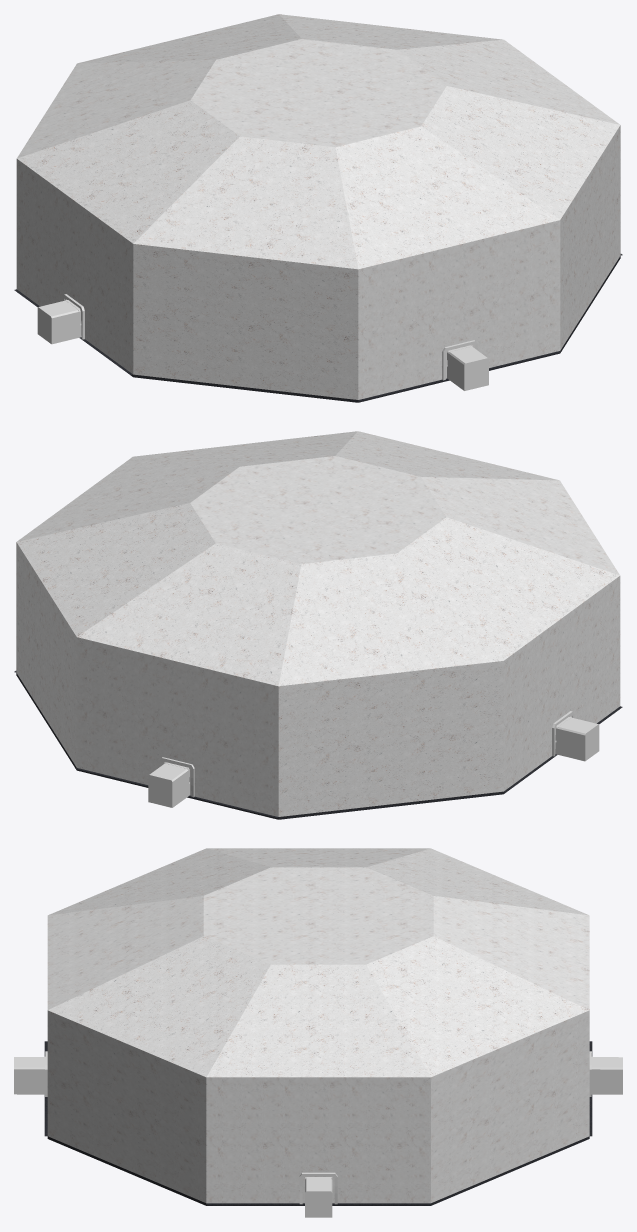
File: BossRoom2.fbx
The picture shows the model from 3 angles, top to bottom: view 1: azimuth 30°, elevation 25°; view 2: azimuth 150°, elevation 25°; view 3: azimuth 270°, elevation 25°; orthographic projection. The views are drawn at different scales.
Visible parts, largest first — view 1: Cylinder.004, Cylinder.005, Cube.014, Cube.005, Cylinder.001; view 2: Cylinder.004, Cylinder.005, Cube.011, Cube.005, Cylinder.001; view 3: Cylinder.004, Cylinder.005, Cylinder.001, Cube.006, Cube.011, Cube.014.
Boxes of the visible parts, box(x1,y1,x2,y2) form: Cylinder.004: box(17, 14, 620, 269); Cylinder.005: box(16, 125, 620, 399); Cube.014: box(442, 340, 488, 390); Cube.005: box(37, 294, 84, 344); Cylinder.001: box(14, 254, 622, 402); Cylinder.004: box(16, 431, 619, 686); Cylinder.005: box(16, 542, 620, 816); Cube.011: box(148, 757, 194, 807); Cube.005: box(552, 711, 599, 761); Cylinder.001: box(14, 671, 622, 819); Cylinder.004: box(47, 848, 589, 1077); Cylinder.005: box(47, 1010, 589, 1203); Cylinder.001: box(44, 1041, 592, 1205); Cube.006: box(299, 1172, 337, 1217); Cube.011: box(589, 1051, 622, 1096); Cube.014: box(14, 1051, 47, 1096).
Size of the model in its own units: 1389 by 441 by 1387.
